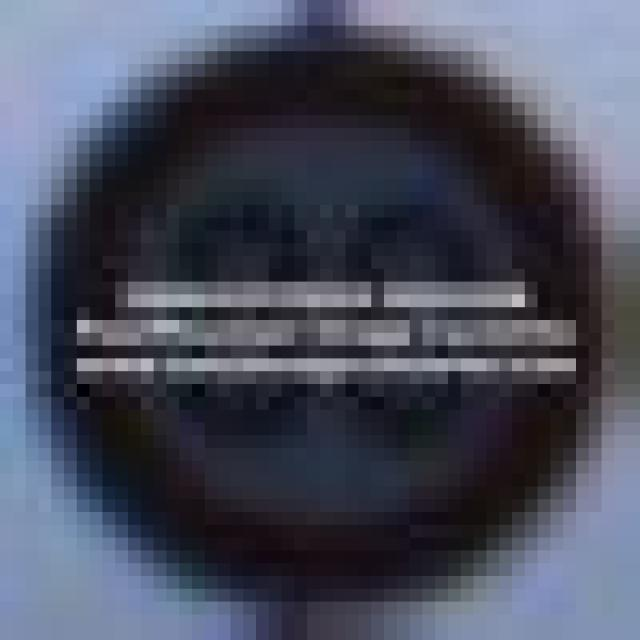speed_limit_50: (38, 26, 589, 576)
